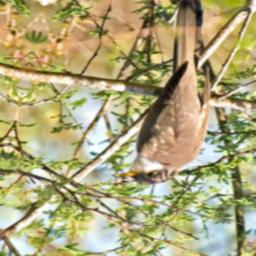Cuckoo: (112, 0, 239, 193)
